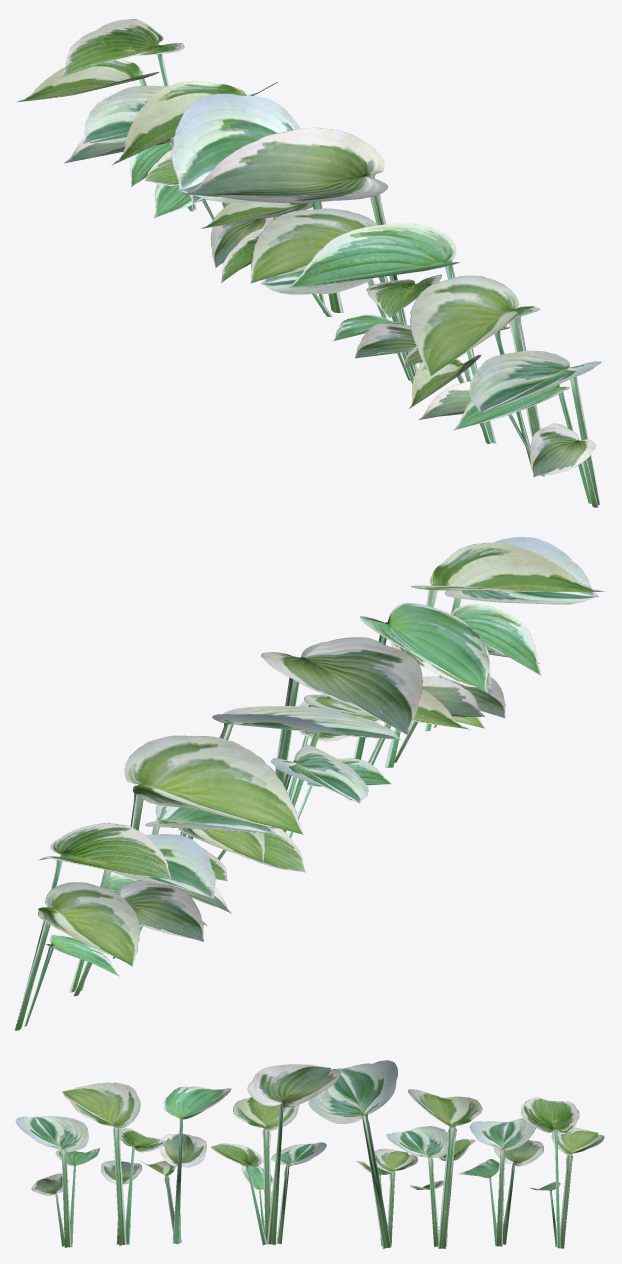
The model's file is plant_small_wg_00_line_04.fbx.
3 views of the same model, one above another, from view 1: azimuth 30°, elevation 25°; view 2: azimuth 150°, elevation 25°; view 3: azimuth 270°, elevation 25° (orthographic). The views are drawn at different scales.
Visible parts, largest first — view 1: plant_small_wg_00_line_04; view 2: plant_small_wg_00_line_04; view 3: plant_small_wg_00_line_04.
Boxes of the visible parts, box(x1,y1,x2,y2) form: plant_small_wg_00_line_04: box(16, 19, 601, 507); plant_small_wg_00_line_04: box(14, 537, 604, 1030); plant_small_wg_00_line_04: box(15, 1060, 604, 1248).
Bounding box in the file's own units: 42.8 × 48.87 × 178.
Materials: 1 (1 with a texture image).
